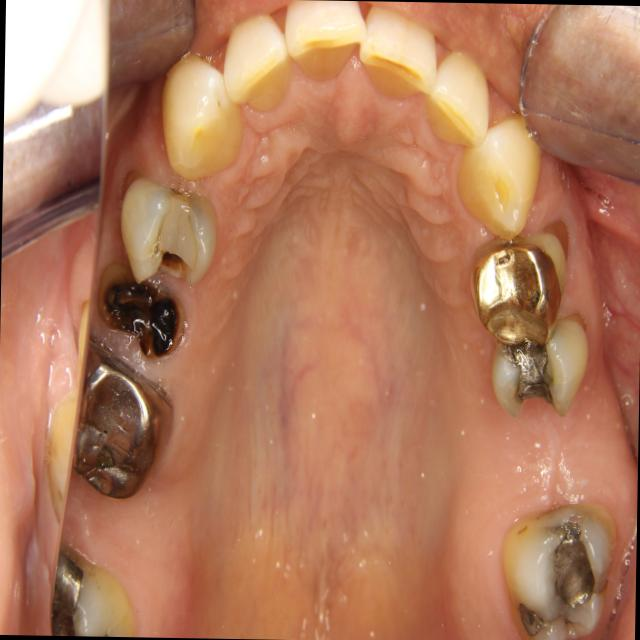tooth: (490, 487, 631, 640), (63, 334, 178, 509), (457, 210, 576, 350), (450, 97, 551, 246), (153, 45, 254, 192), (476, 304, 595, 427), (116, 170, 228, 294), (87, 248, 196, 367), (39, 532, 145, 637), (357, 1, 440, 112), (217, 10, 297, 116), (421, 40, 495, 149), (280, 0, 366, 93)
